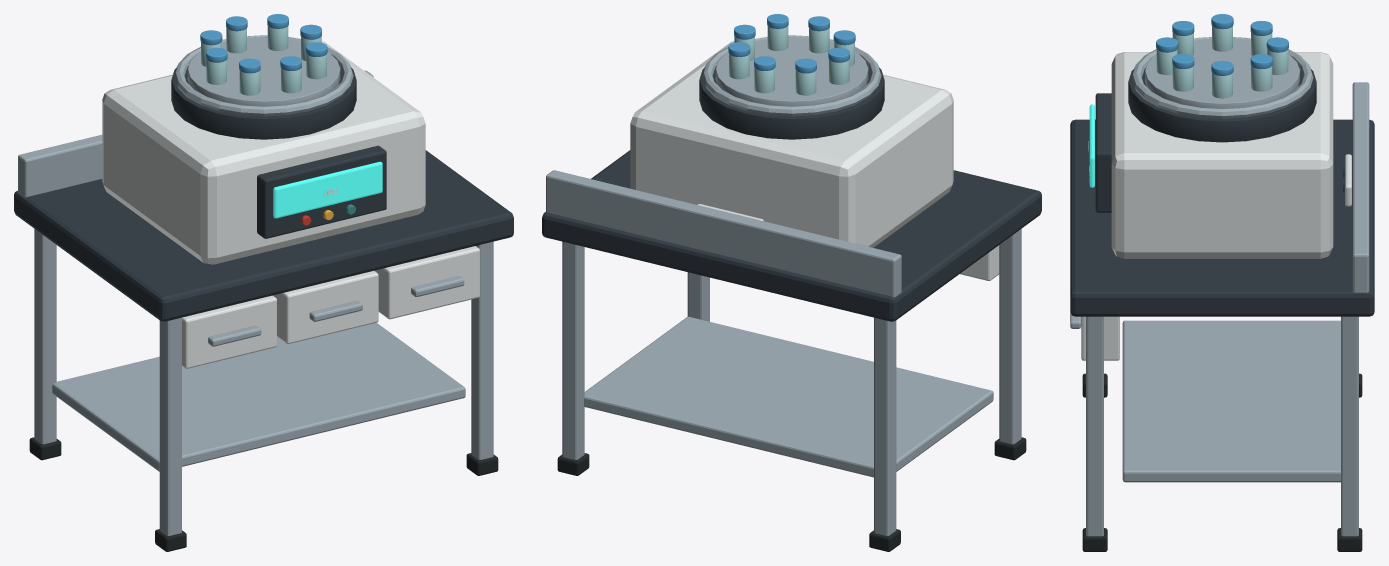
The model's file is centrifuge.glb.
The picture shows the model from 3 angles, left to right: view 1: azimuth 30°, elevation 25°; view 2: azimuth 150°, elevation 25°; view 3: azimuth 270°, elevation 25°; orthographic projection.
Parts seen in each view (by area): view 1: Centrifuge casing, Equipment shelf, Worktop, Rotor, Control bezel, Tubular leg, Cabinet drawer.001, Cabinet drawer.002, Rotor basin, Tubular leg.001, Cabinet drawer, Tubular leg.002 (+4 smaller); view 2: Centrifuge casing, Equipment shelf, Worktop, Splashback, Rotor, Tubular leg.001, Tubular leg.003, Rotor basin, Tubular leg, Rotor guard, Tubular leg.002, Cabinet drawer; view 3: Equipment shelf, Centrifuge casing, Worktop, Rotor, Rotor basin, Tubular leg.002, Tubular leg.003, Splashback, Rotor guard, Control bezel, Cabinet drawer.002, Sample tube.001 (+8 smaller).
Boxes of the visible parts, x1,y1,x2,y2 form: Centrifuge casing: (102, 41, 425, 264); Equipment shelf: (52, 322, 465, 471); Worktop: (14, 150, 513, 321); Rotor: (187, 37, 340, 106); Control bezel: (257, 145, 386, 238); Tubular leg: (159, 317, 181, 535); Cabinet drawer.001: (273, 271, 378, 343); Cabinet drawer.002: (374, 246, 479, 319); Rotor basin: (171, 67, 356, 139); Tubular leg.001: (34, 229, 56, 444); Cabinet drawer: (182, 295, 276, 368); Tubular leg.002: (471, 241, 493, 459); Centrifuge casing: (630, 41, 953, 247); Equipment shelf: (584, 316, 993, 477); Worktop: (542, 150, 1041, 321); Splashback: (546, 170, 901, 297); Rotor: (715, 37, 868, 106); Tubular leg.001: (874, 317, 896, 535); Tubular leg.003: (562, 241, 584, 459); Rotor basin: (699, 67, 884, 139); Tubular leg: (999, 229, 1021, 444); Rotor guard: (702, 35, 881, 116); Tubular leg.002: (687, 272, 709, 321); Cabinet drawer: (960, 245, 999, 280); Equipment shelf: (1122, 320, 1340, 482); Centrifuge casing: (1111, 52, 1333, 258); Worktop: (1070, 119, 1374, 316); Rotor: (1145, 38, 1299, 108); Rotor basin: (1128, 69, 1316, 142); Tubular leg.002: (1086, 316, 1103, 536); Tubular leg.003: (1341, 316, 1358, 536); Splashback: (1352, 82, 1369, 292); Rotor guard: (1131, 37, 1313, 118); Control bezel: (1095, 93, 1111, 212); Cabinet drawer.002: (1081, 316, 1119, 360); Sample tube.001: (1251, 66, 1272, 91).
Size of the model in its own units: 1.5 by 1.71 by 1.1.
